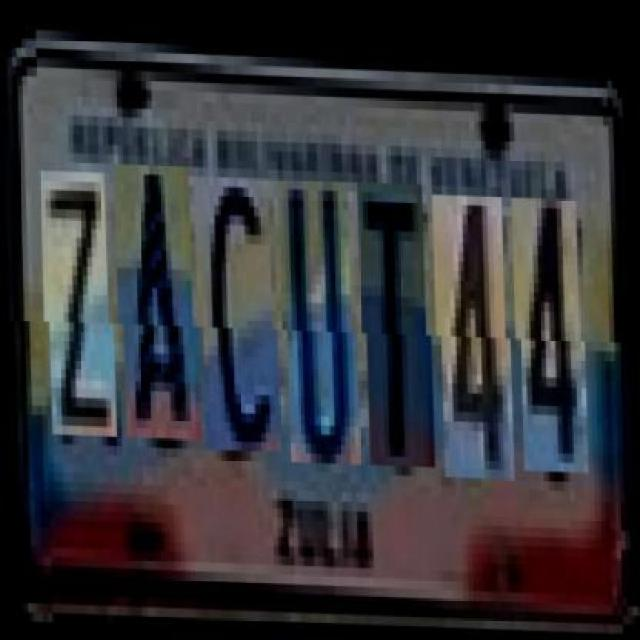4: (436, 192, 512, 476), (516, 194, 586, 469)
a: (118, 163, 199, 439)
c: (198, 175, 278, 450)
t: (361, 180, 432, 465)
u: (280, 177, 358, 461)
z: (44, 171, 114, 435)
